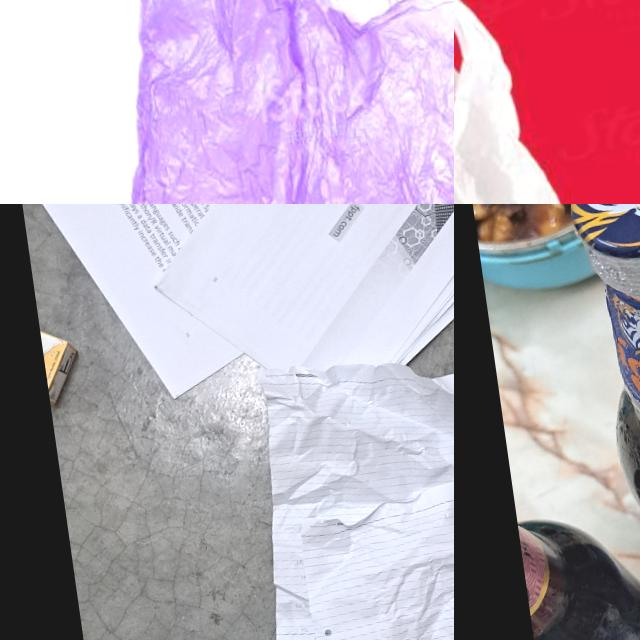garrafa de vidro: (559, 204, 640, 640), (517, 494, 640, 640)
papel: (20, 204, 454, 419), (238, 335, 454, 640)
sacola plástica: (40, 0, 454, 204), (454, 0, 601, 204)
